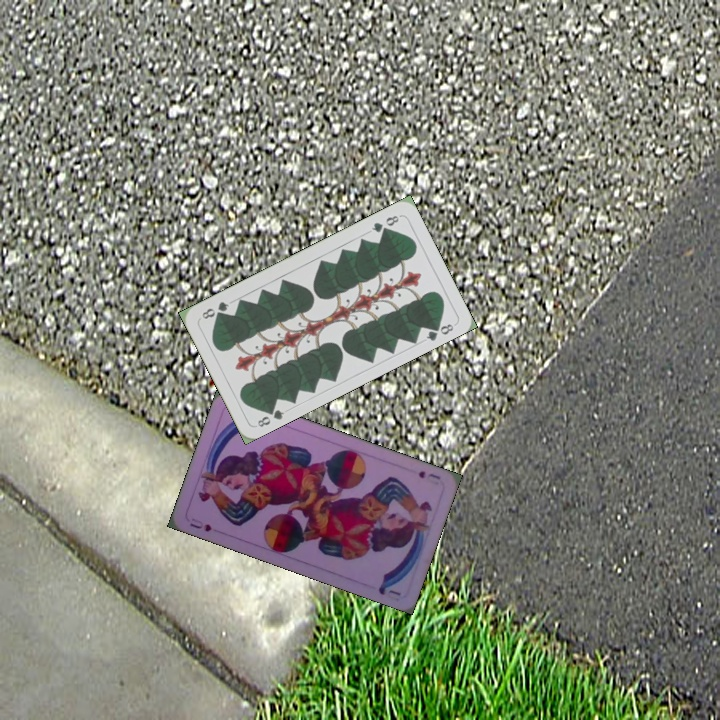G8: (253, 403, 287, 430), (367, 211, 403, 235)
SU: (186, 514, 214, 534), (414, 467, 443, 482)
